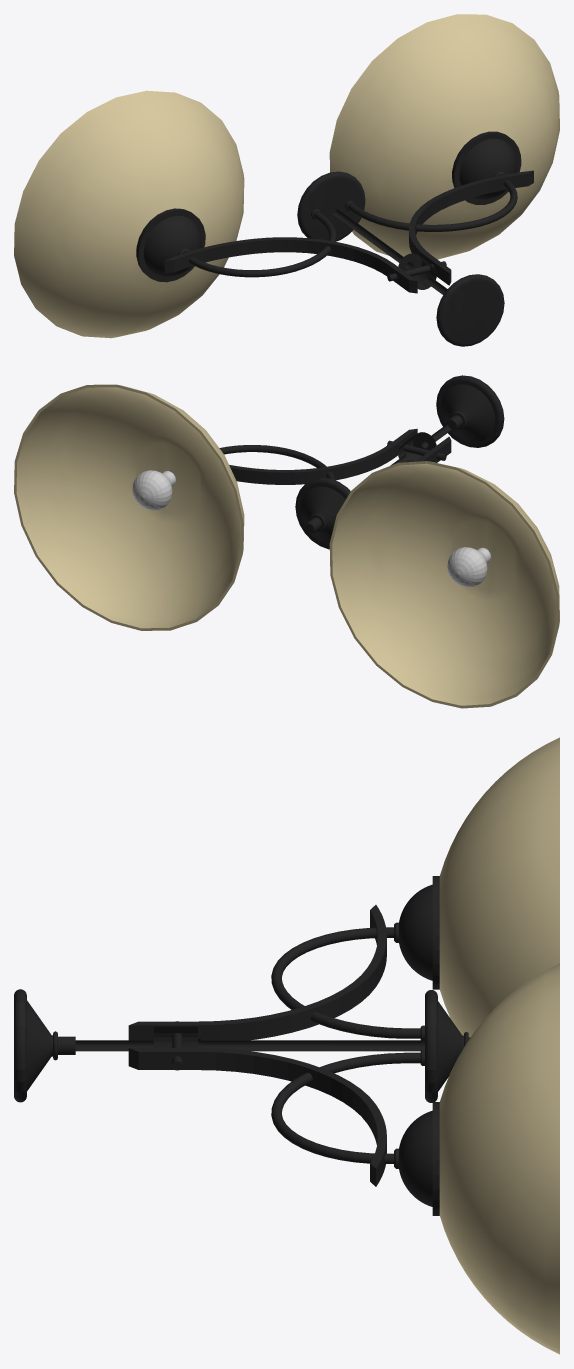
The model's file is 1807_CEILING+HUNG+DBL+PENDANT-FBX.fbx.
3 views of the same model, one above another, from view 1: azimuth 30°, elevation 25°; view 2: azimuth 150°, elevation 25°; view 3: azimuth 270°, elevation 25° (orthographic). The views are drawn at different scales.
Parts seen in each view (by area): view 1: PENDANT, FRAME1; view 2: PENDANT, FRAME1, GLAZ; view 3: PENDANT, FRAME1.
Part boxes in pixels (x1,y1,x2,y2): PENDANT: [14, 14, 559, 338]; FRAME1: [136, 131, 533, 346]; PENDANT: [14, 384, 559, 708]; FRAME1: [219, 375, 504, 549]; GLAZ: [132, 470, 491, 587]; PENDANT: [439, 737, 559, 1354]; FRAME1: [14, 876, 470, 1215].
Bounding box in the file's own units: 40.17 × 16.92 × 23.73.
